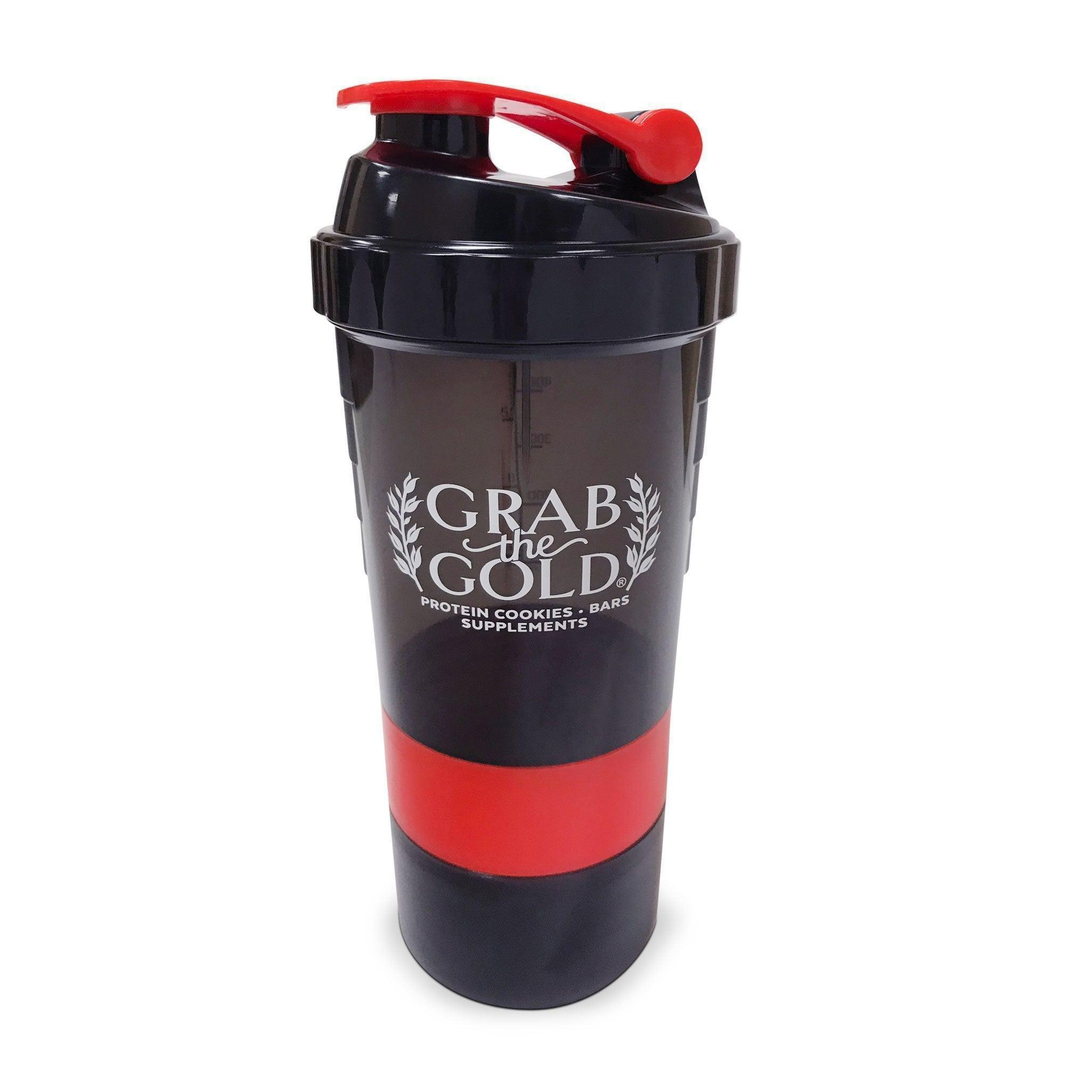gym bottle: (306, 74, 744, 1017)
